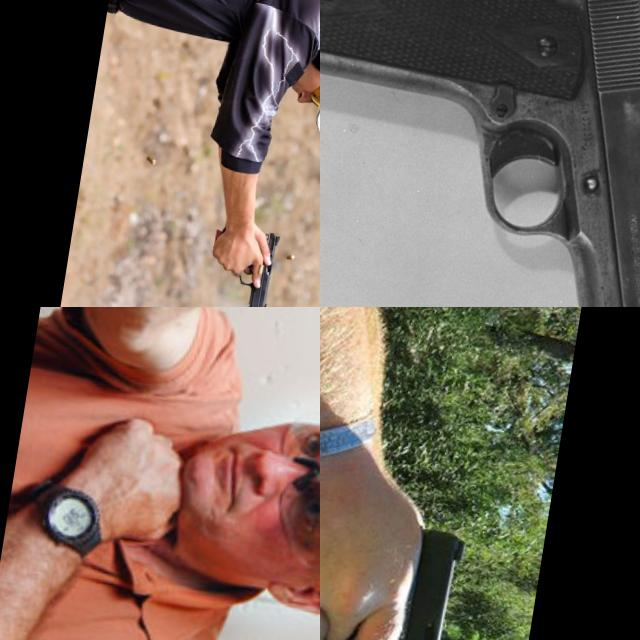handgun: (320, 0, 640, 307), (320, 513, 473, 640), (189, 307, 320, 403), (227, 224, 282, 307)
